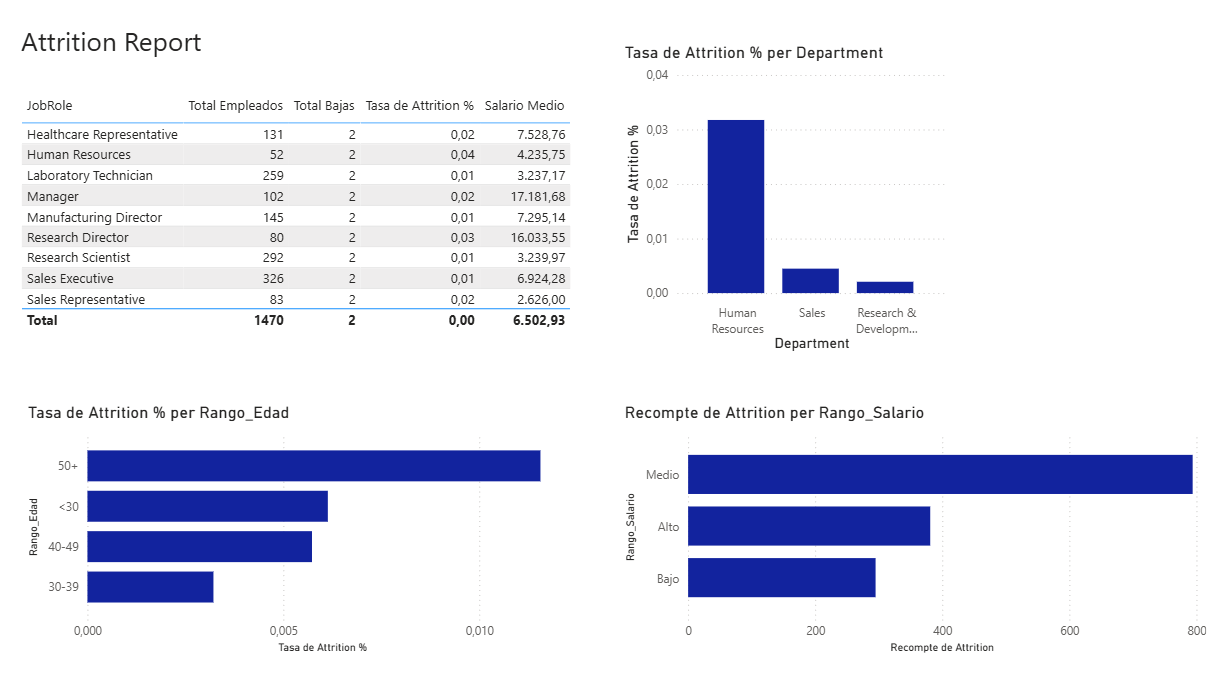

The page's visual inventory and layout, read from the dashboard file:
{"tool":"powerbi","page":{"name":"Attrition","canvas":[1280,720],"ordinal":0},"visuals":[{"type":"columnChart","fields":{"Category":["FACT_Empleados.Department"],"Y":["DIM_Genero.Tasa de Attrition %"]},"box":[639.9,58,336.6,319.2],"z":0},{"type":"clusteredBarChart","fields":{"Category":["DIM_Satisfaccion.Rango_Edad"],"Y":["DIM_Genero.Tasa de Attrition %"]},"box":[33.4,425.1,563,259.7],"z":1000},{"type":"barChart","fields":{"Category":["DIM_Satisfaccion.Rango_Salario"],"Y":["CountNonNull(FACT_Empleados.Attrition)"]},"box":[639.9,425.1,600.7,259.7],"z":2000},{"type":"tableEx","fields":{"Values":["FACT_Empleados.JobRole","DIM_Genero.Total Empleados","DIM_Genero.Total Bajas","DIM_Genero.Tasa de Attrition %","DIM_Genero.Salario Medio"]},"box":[26.1,107.4,570.2,252.5],"z":3000},{"type":"textbox","box":[26.1,33.4,264.1,49.3],"z":4000}]}

Visuals, with their boxes in screenshot pixels (x1, y1, x2, y2), scaled from the page's 1280x720 canvas onto the 1227x676 screenshot:
columnChart - FACT_Empleados.Department x DIM_Genero.Tasa de Attrition %: <region>613, 54, 936, 354</region>
clusteredBarChart - DIM_Satisfaccion.Rango_Edad x DIM_Genero.Tasa de Attrition %: <region>32, 399, 572, 643</region>
barChart - DIM_Satisfaccion.Rango_Salario x CountNonNull(FACT_Empleados.Attrition): <region>613, 399, 1189, 643</region>
tableEx - FACT_Empleados.JobRole x DIM_Genero.Total Empleados: <region>25, 101, 572, 338</region>
textbox: <region>25, 31, 278, 78</region>
